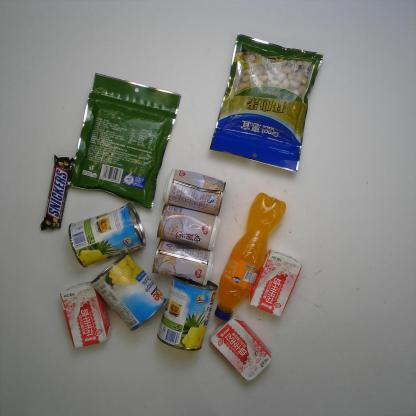Canned Food: (89, 249, 170, 333), (66, 201, 147, 269), (154, 276, 219, 354), (161, 167, 228, 217), (150, 238, 217, 288), (154, 204, 222, 252)
Chocolate: (38, 152, 76, 233)
Dried Fruit: (207, 28, 326, 176), (66, 70, 185, 212)
Drink: (212, 190, 289, 322)
Milk: (206, 312, 275, 384), (247, 246, 304, 319), (57, 280, 114, 351)
